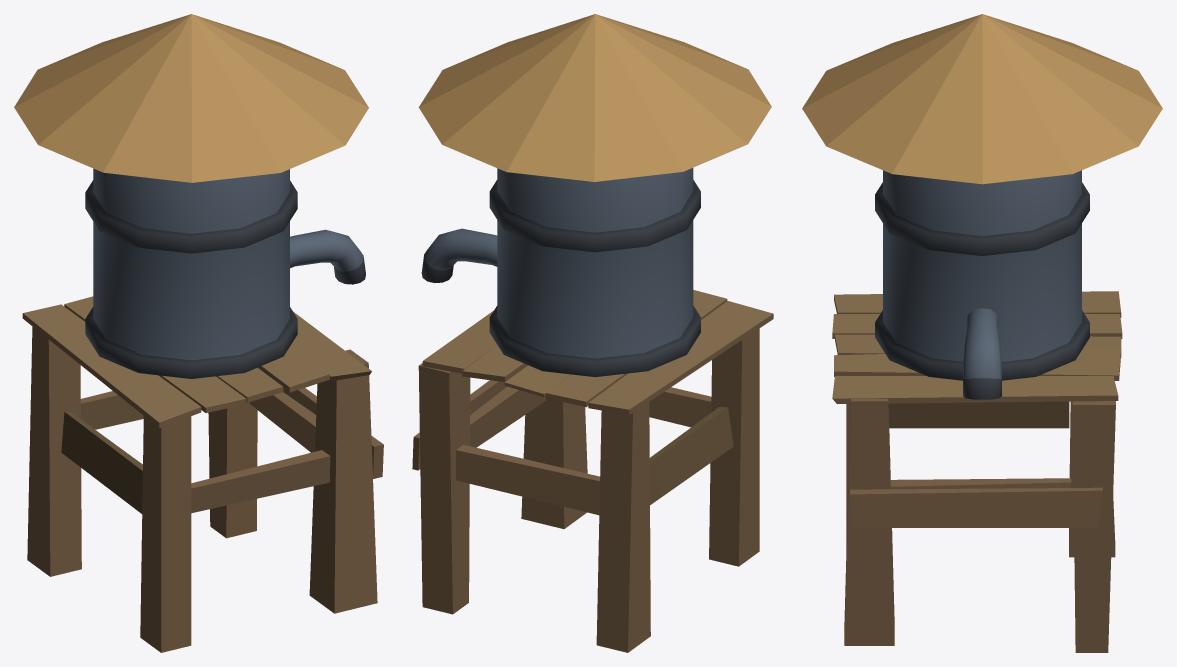
Rendered from su_tank.fbx.
3 views of the same model, side by side, from view 1: azimuth 30°, elevation 25°; view 2: azimuth 150°, elevation 25°; view 3: azimuth 270°, elevation 25° (orthographic).
Parts seen in each view (by area): view 1: pCone2; view 2: pCone2; view 3: pCone2.
Boxes of the visible parts, <box> form: pCone2: <box>14,14,383,652</box>; pCone2: <box>412,14,773,652</box>; pCone2: <box>802,14,1162,652</box>.
Size of the model in its own units: 2622 by 4456 by 2495.
